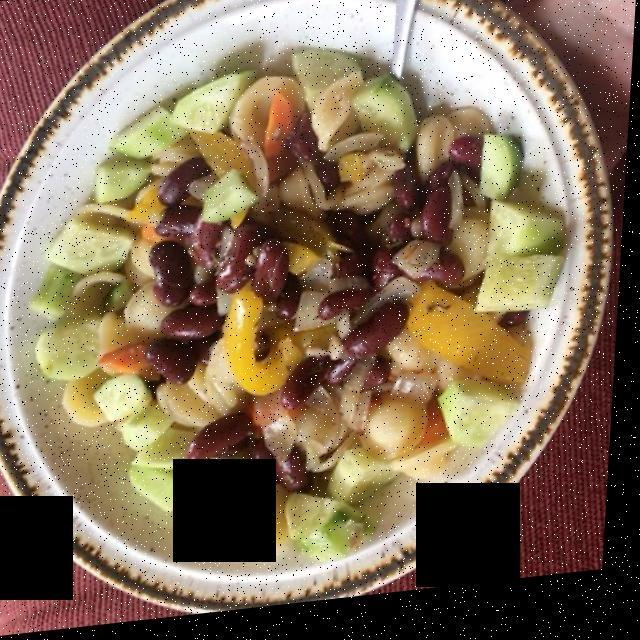beans: (161, 158, 478, 492)
mixed-vegetables: (47, 62, 559, 558)
